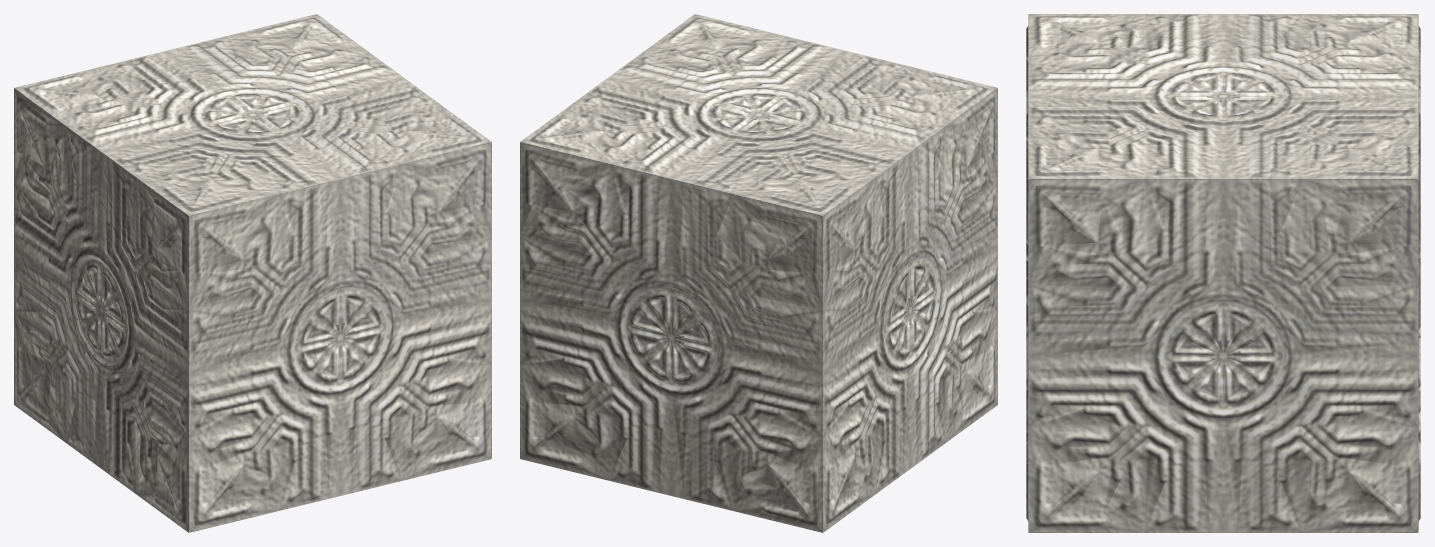
File: 1_grounddetail.fbx
3 renders of one model, left to right at view 1: azimuth 30°, elevation 25°; view 2: azimuth 150°, elevation 25°; view 3: azimuth 270°, elevation 25°, orthographic. The views are drawn at different scales.
Visible parts, largest first — view 1: mqo_mesh; view 2: mqo_mesh; view 3: mqo_mesh.
Boxes of the visible parts, <box> form: mqo_mesh: <box>14,14,491,532</box>; mqo_mesh: <box>520,14,997,532</box>; mqo_mesh: <box>1026,14,1420,532</box>.
Bounding box in the file's own units: 202 × 202 × 202.
